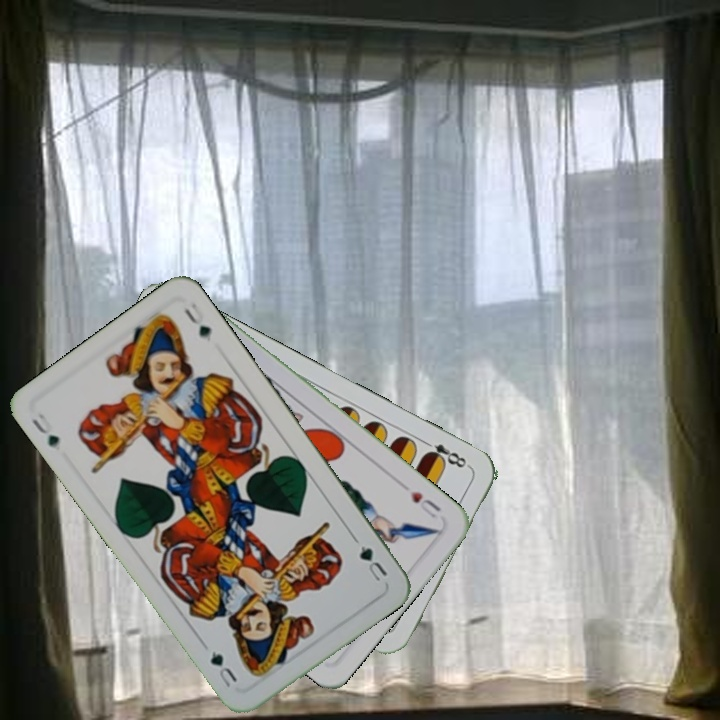E8: (419, 436, 473, 471)
GU: (350, 534, 390, 586), (27, 409, 62, 451)
HU: (406, 487, 444, 522)
